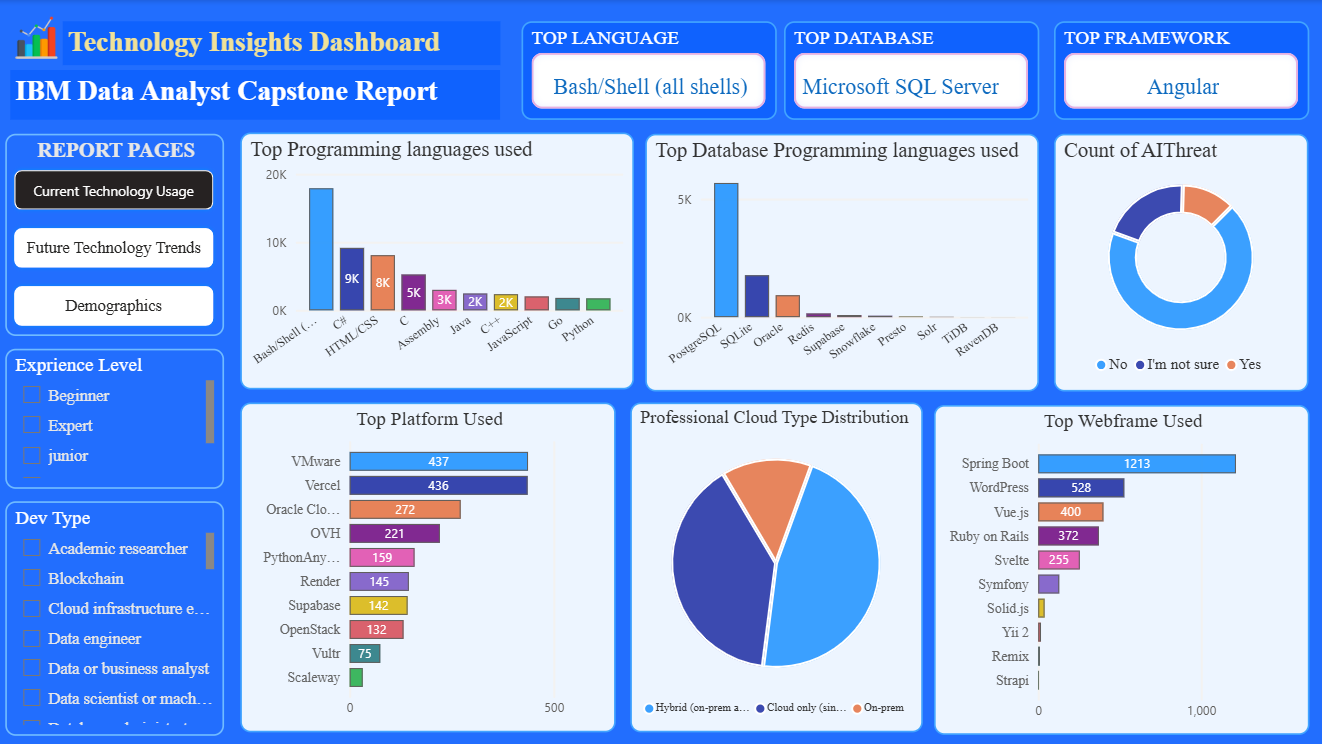

The dashboard page shown, as its layout file describes it:
{"tool":"powerbi","page":{"name":"Current Technology Usage","canvas":[1280,720],"ordinal":0},"visuals":[{"type":"image","box":[10.9,9.7,50.7,53.1],"z":0},{"type":"textbox","box":[10.9,67.6,472.9,48.3],"z":1000},{"type":"pageNavigator","title":"REPORT PAGES","box":[6.1,128.7,210.9,194.9],"z":2000},{"type":"slicer","title":"Dev Type","fields":{"Values":["Exploratory_Data.DevType"]},"box":[5.7,483.2,211,226.6],"z":3000},{"type":"slicer","title":"Exprience Level","fields":{"Values":["Exploratory_Data.ExperienceLevel"]},"box":[5.7,336.4,211,135.4],"z":4000},{"type":"cardVisual","title":"TOP LANGUAGE","fields":{"Data":["Min(Exploratory_Data.LanguageHaveWorkedWith)"]},"box":[504.3,20.5,246.1,95.3],"z":5000},{"type":"cardVisual","title":"TOP DATABASE","fields":{"Data":["Min(Exploratory_Data.DatabaseHaveWorkedWith)"]},"box":[757.6,20.5,246.1,95.3],"z":6000},{"type":"cardVisual","title":"TOP FRAMEWORK","fields":{"Data":["Min(Exploratory_Data.WebframeHaveWorkedWith)"]},"box":[1017.7,20,246.6,95.5],"z":7000},{"type":"columnChart","title":"Top Programming languages used","fields":{"Category":["Exploratory_Data.LanguageHaveWorkedWith"],"Series":["Exploratory_Data.LanguageHaveWorkedWith"],"Y":["CountNonNull(Exploratory_Data.LanguageHaveWorkedWith)"]},"box":[232.3,128.3,380,248],"z":8000},{"type":"columnChart","title":"Top Database  Programming languages used","fields":{"Category":["Exploratory_Data.DatabaseHaveWorkedWith"],"Series":["Exploratory_Data.DatabaseHaveWorkedWith"],"Y":["CountNonNull(Exploratory_Data.DatabaseHaveWorkedWith)"]},"box":[623.9,128.6,379.9,248.4],"z":9000},{"type":"donutChart","title":"Count of AIThreat","fields":{"Category":["Exploratory_Data.AIThreat"],"Y":["CountNonNull(Exploratory_Data.AIThreat)"]},"box":[1018.4,128.6,245.5,248.4],"z":10000},{"type":"barChart","title":"Top Platform Used","fields":{"Category":["Exploratory_Data.PlatformHaveWorkedWith"],"Series":["Exploratory_Data.PlatformHaveWorkedWith"],"Y":["CountNonNull(Exploratory_Data.PlatformHaveWorkedWith)"]},"box":[232.3,388.7,362.4,318.5],"z":11000},{"type":"barChart","title":"Top Webframe Used","fields":{"Category":["Exploratory_Data.WebframeHaveWorkedWith"],"Series":["Exploratory_Data.WebframeHaveWorkedWith"],"Y":["CountNonNull(Exploratory_Data.WebframeHaveWorkedWith)"]},"box":[902.4,391.1,362,318.8],"z":12000},{"type":"pieChart","title":"Professional Cloud Type  Distribution","fields":{"Category":["Exploratory_Data.ProfessionalCloud"],"Y":["CountNonNull(Exploratory_Data.ProfessionalCloud)"]},"box":[609.3,388.7,282,318.5],"z":13000},{"type":"textbox","box":[61.5,20.5,422.3,42.2],"z":14000}]}

Visuals, with their boxes in screenshot pixels (x1, y1, x2, y2), scaled from the page's 1280x720 canvas onto the 1322x744 screenshot:
image: <bbox>11, 10, 64, 65</bbox>
textbox: <bbox>11, 70, 500, 120</bbox>
"REPORT PAGES" pageNavigator: <bbox>6, 133, 224, 334</bbox>
"Dev Type" slicer: <bbox>6, 499, 224, 733</bbox>
"Exprience Level" slicer: <bbox>6, 348, 224, 488</bbox>
"TOP LANGUAGE" cardVisual: <bbox>521, 21, 775, 120</bbox>
"TOP DATABASE" cardVisual: <bbox>782, 21, 1037, 120</bbox>
"TOP FRAMEWORK" cardVisual: <bbox>1051, 21, 1306, 119</bbox>
"Top Programming languages used" columnChart: <bbox>240, 133, 632, 389</bbox>
"Top Database  Programming languages used" columnChart: <bbox>644, 133, 1037, 390</bbox>
"Count of AIThreat" donutChart: <bbox>1052, 133, 1305, 390</bbox>
"Top Platform Used" barChart: <bbox>240, 402, 614, 731</bbox>
"Top Webframe Used" barChart: <bbox>932, 404, 1306, 734</bbox>
"Professional Cloud Type  Distribution" pieChart: <bbox>629, 402, 921, 731</bbox>
textbox: <bbox>64, 21, 500, 65</bbox>
